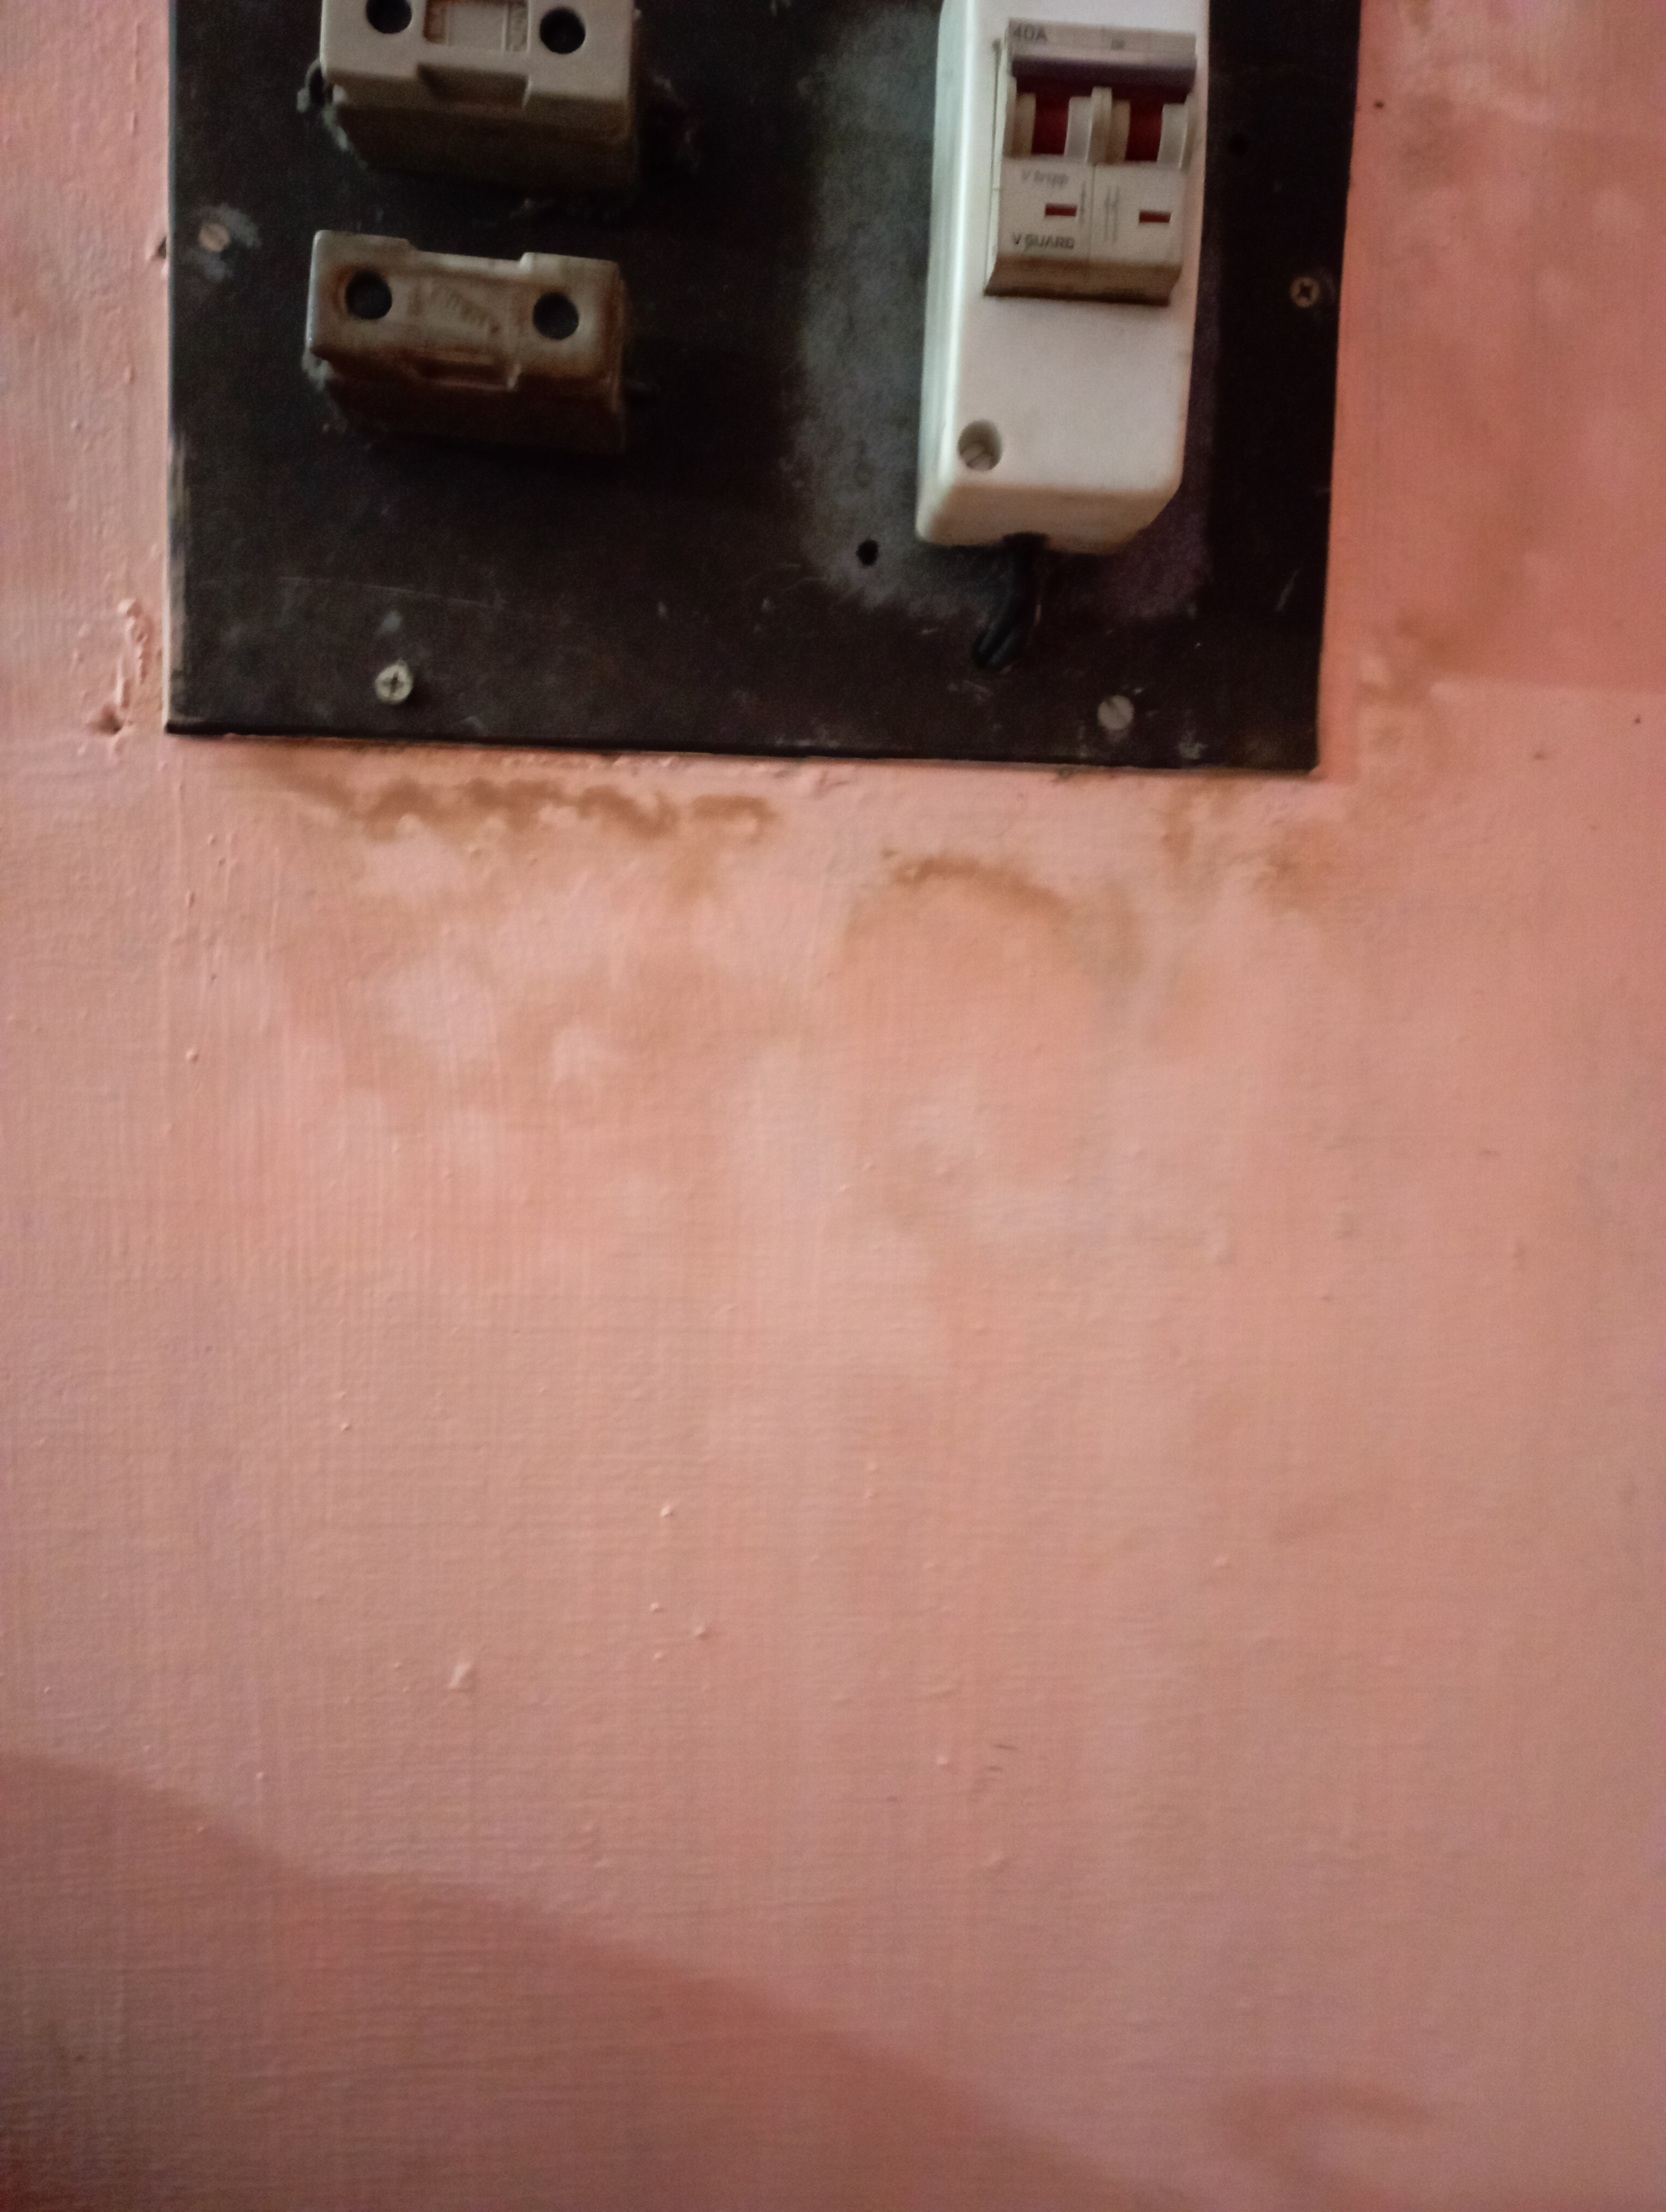ciruit_breaker: (894, 0, 1222, 560)
fuse: (282, 215, 644, 449), (287, 0, 679, 154)
